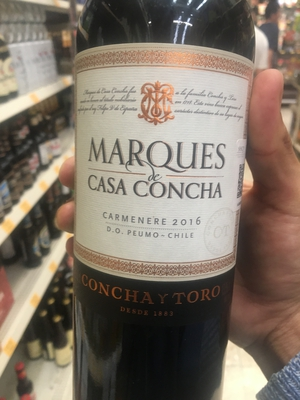marques de casa concha carmenere: (65, 7, 266, 400)
